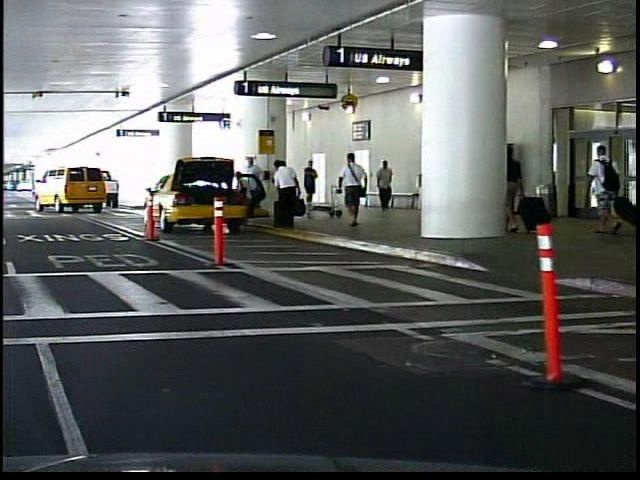person: (484, 137, 524, 236), (579, 143, 621, 237), (331, 148, 367, 230), (372, 154, 393, 215)
